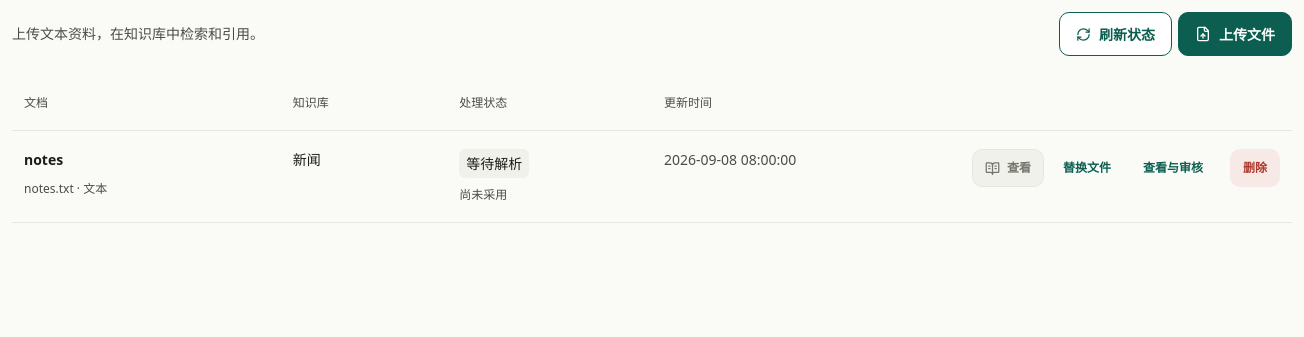
文件资料管理 › 删除失败保留目标和待办，继续删除仍提交相同文档身份
This screenshot has width=1304, height=337.
Click the button "删除" at (1255, 168), box [1230,149,1280,187]
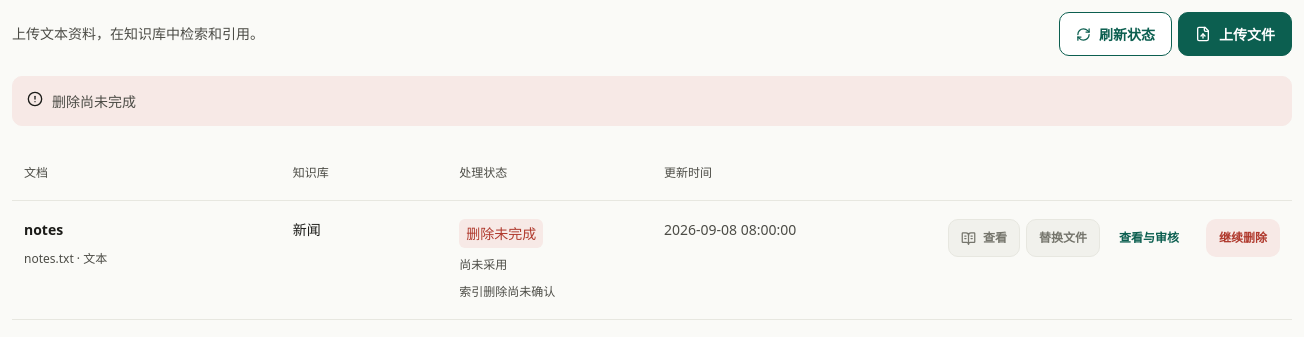
Now the table shows "删除未完成", box [466,224,536,243]
Now the table shows "继续删除", box [1206,219,1280,257]
